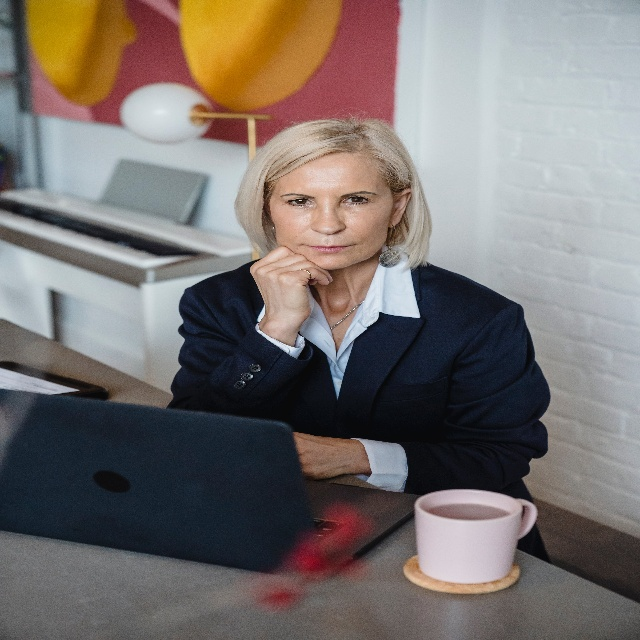Sin_guantes: (249, 238, 333, 336), (290, 431, 345, 480)
